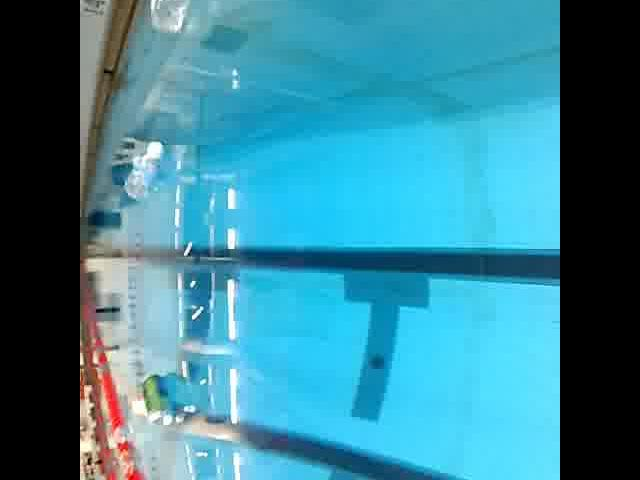Bottle: (122, 136, 168, 204), (144, 0, 194, 38), (126, 392, 152, 420)
Can: (140, 368, 178, 432)
